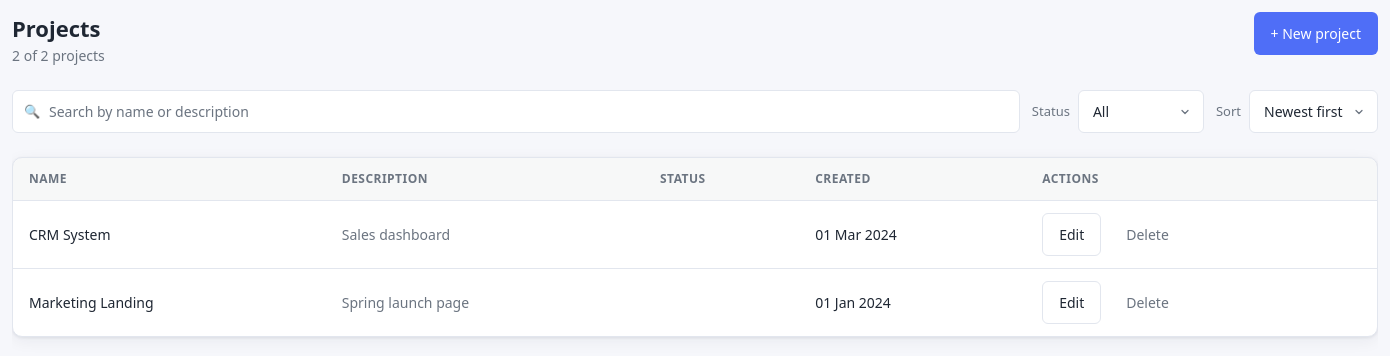
Test: ProjectsPage › shows a distinct empty state when nothing matches
Step 1. Type "nothing matches this" into the search field named "Search projects" → (516, 112), box [12,90,1020,133]
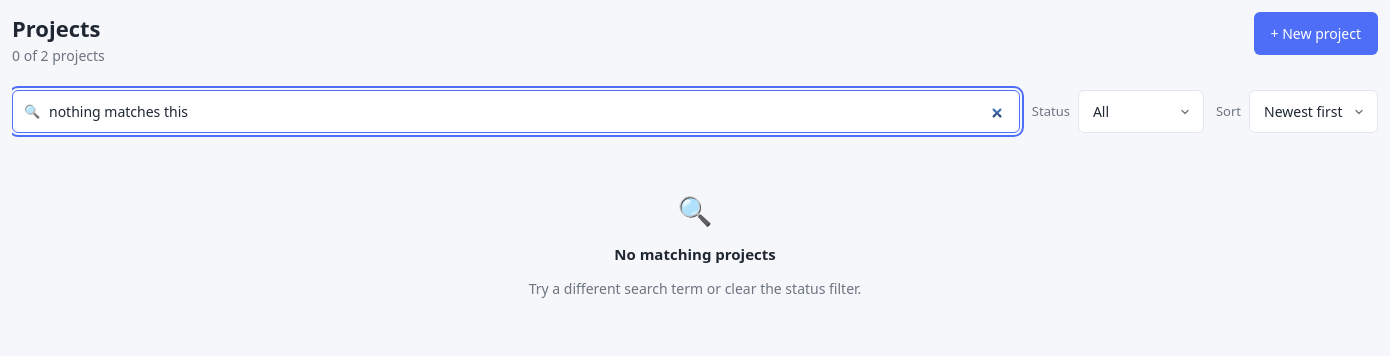
Check: the text "No matching projects" is shown, box [614,243,776,266]
Check: the table is gone
